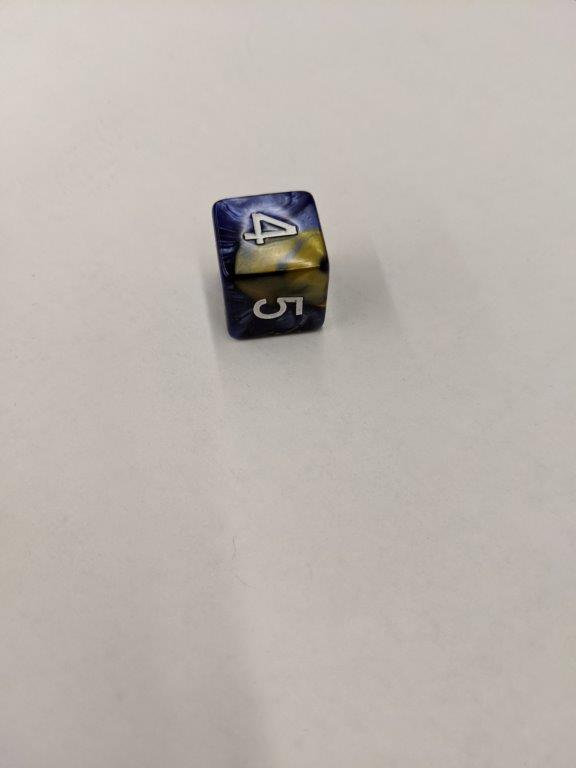d6-4: (211, 190, 330, 346)
